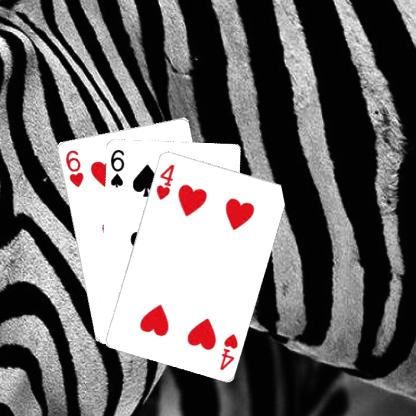4H: (153, 161, 176, 201), (217, 331, 239, 371)
6H: (63, 147, 84, 188)
6S: (108, 146, 125, 188)
